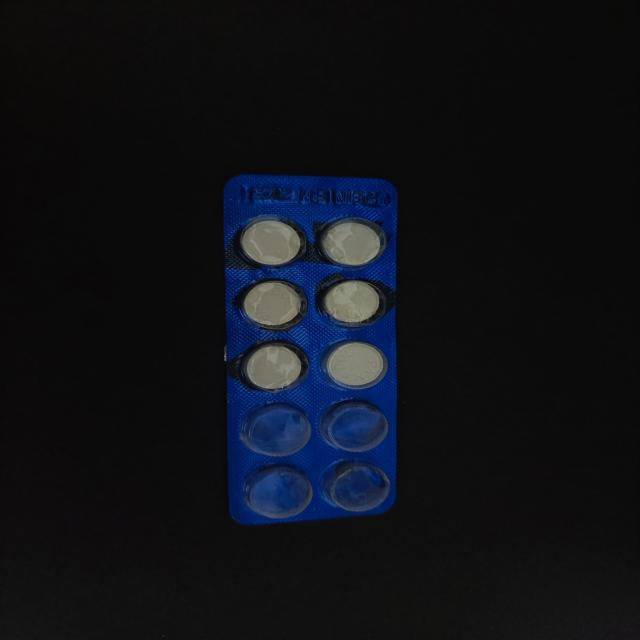defect: (237, 402, 316, 458), (240, 462, 316, 519), (319, 397, 392, 454), (320, 458, 394, 513)
